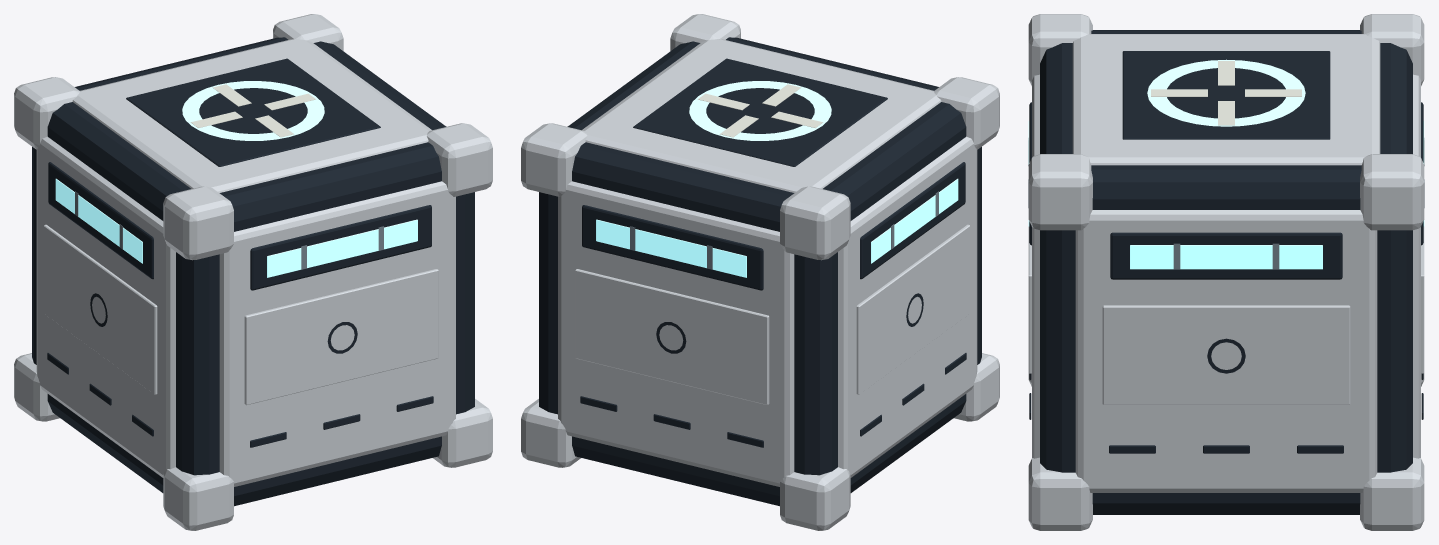
File: EnergyCrate.fbx
3 renders of one model, left to right at view 1: azimuth 30°, elevation 25°; view 2: azimuth 150°, elevation 25°; view 3: azimuth 270°, elevation 25°, orthographic. The views are drawn at different scales.
Visible parts, largest first — view 1: Shell, FixedWindows, EnergyGlyph; view 2: Shell, FixedWindows, EnergyGlyph; view 3: Shell, EnergyGlyph, FixedWindows.
Part boxes in pixels (x1=…): Shell: x1=14, y1=14, x2=492, y2=530; FixedWindows: x1=55, y1=178, x2=417, y2=277; EnergyGlyph: x1=90, y1=81, x2=357, y2=353; Shell: x1=521, y1=14, x2=999, y2=530; FixedWindows: x1=596, y1=178, x2=958, y2=277; EnergyGlyph: x1=656, y1=81, x2=923, y2=353; Shell: x1=1028, y1=14, x2=1424, y2=530; EnergyGlyph: x1=1147, y1=59, x2=1305, y2=373; FixedWindows: x1=1028, y1=121, x2=1424, y2=269.
Size of the model in its own units: 0.8005 by 0.8 by 0.8005.
